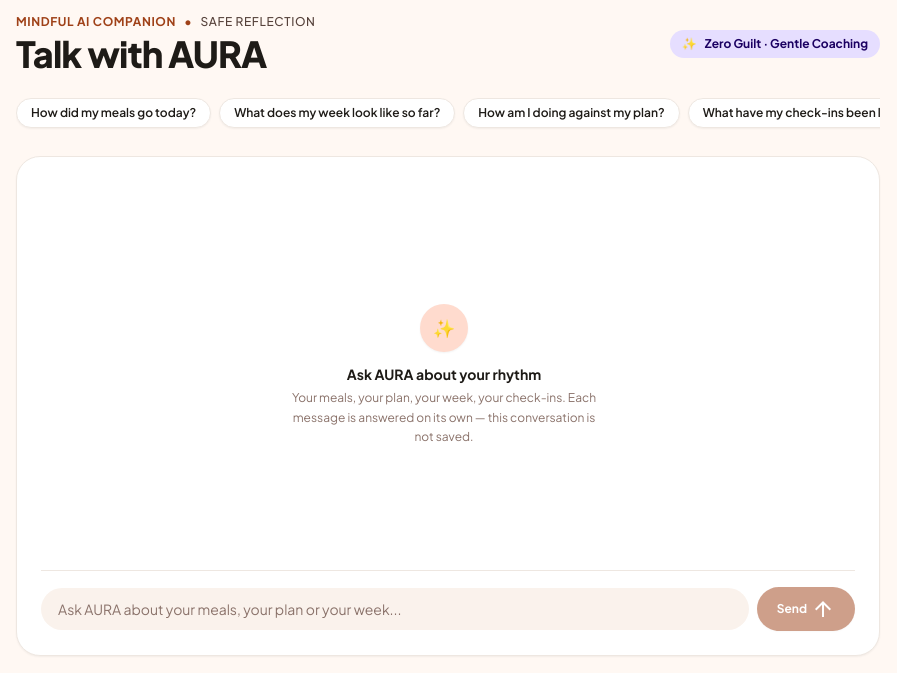
the reply kinds the backend can send › shows a boundary reply as an ordinary turn
Type "write me a poem" into the field named "Message AURA" at (395, 609), box [41,588,749,630]
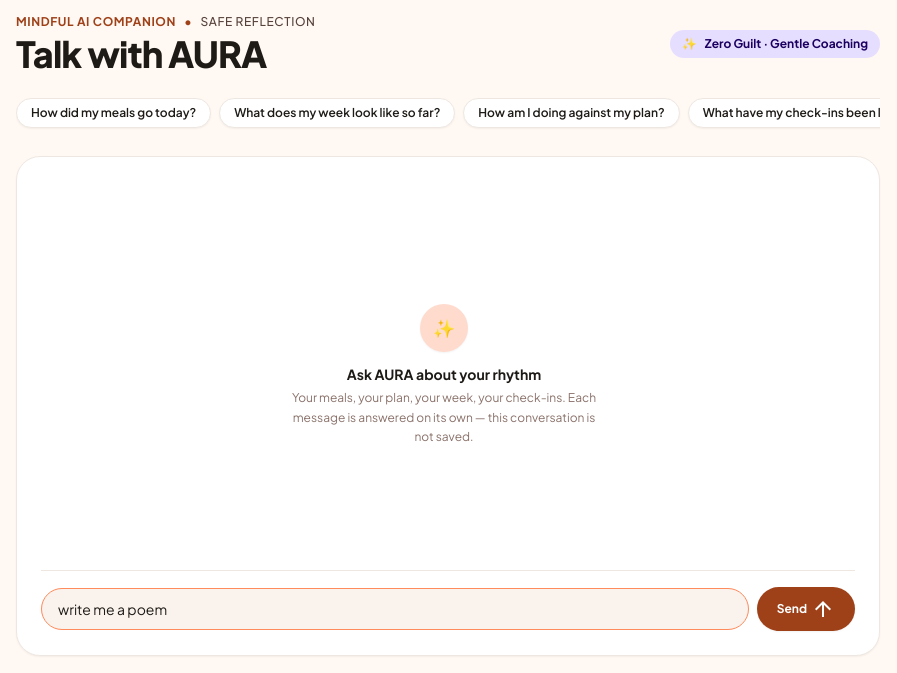
Click the button "Send" at (806, 609), box [757,587,855,631]
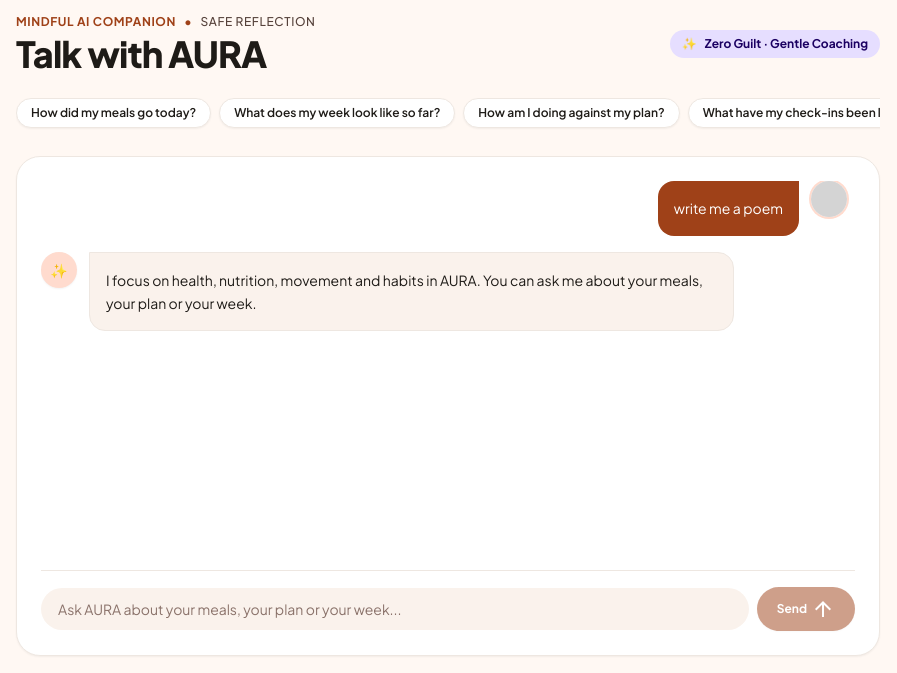
Check: the text "I focus on health, nutrition" is shown, box [106,271,705,312]
